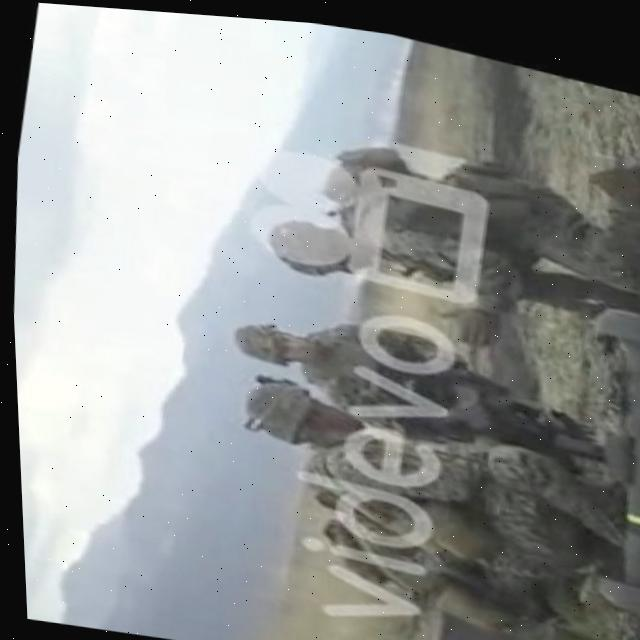rocket: (538, 290, 640, 614)
